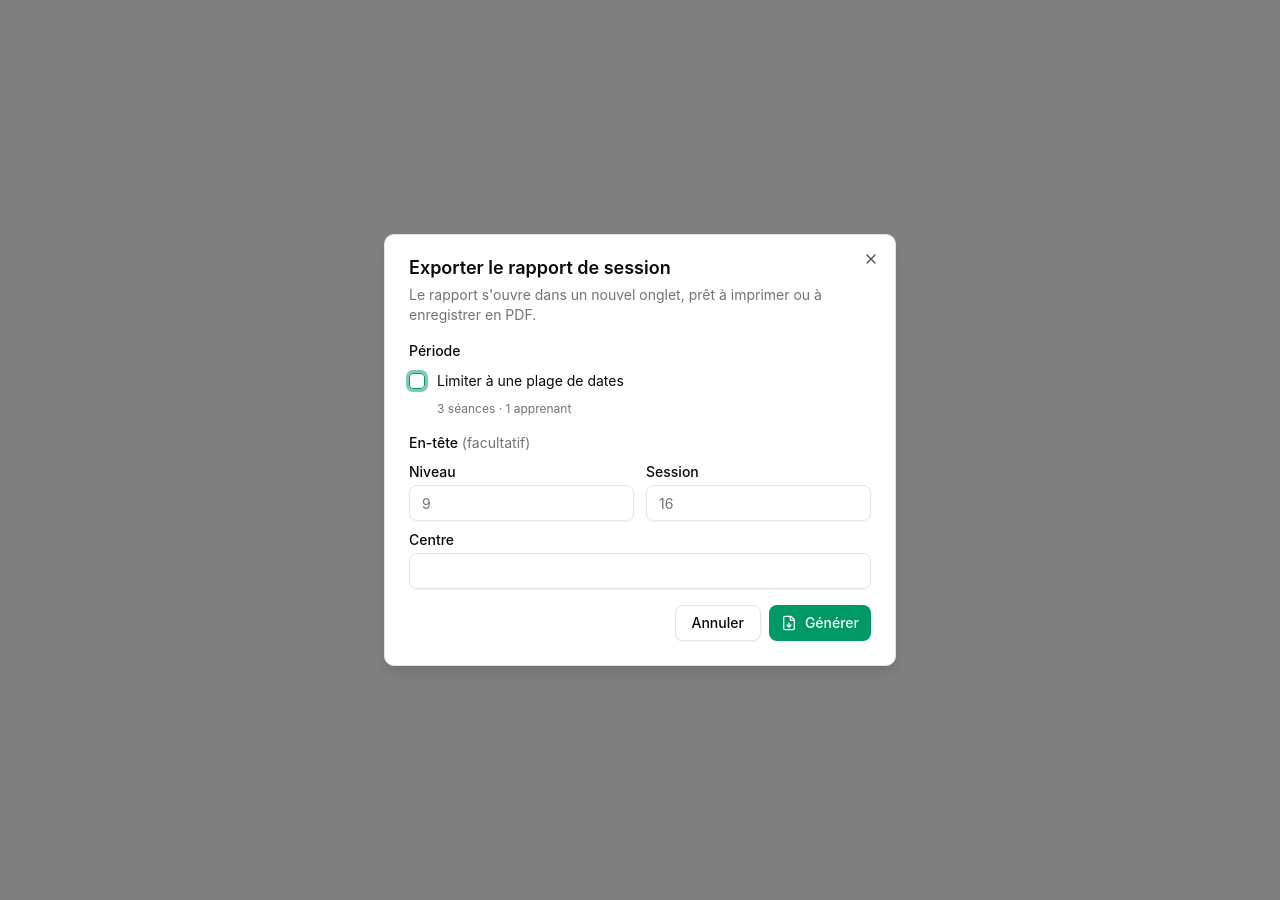
Scenario: ExportRapportDialog › révèle les deux dates quand on limite la période
Click the checkbox named "plage de dates": [417, 381] box [409,373,425,389]
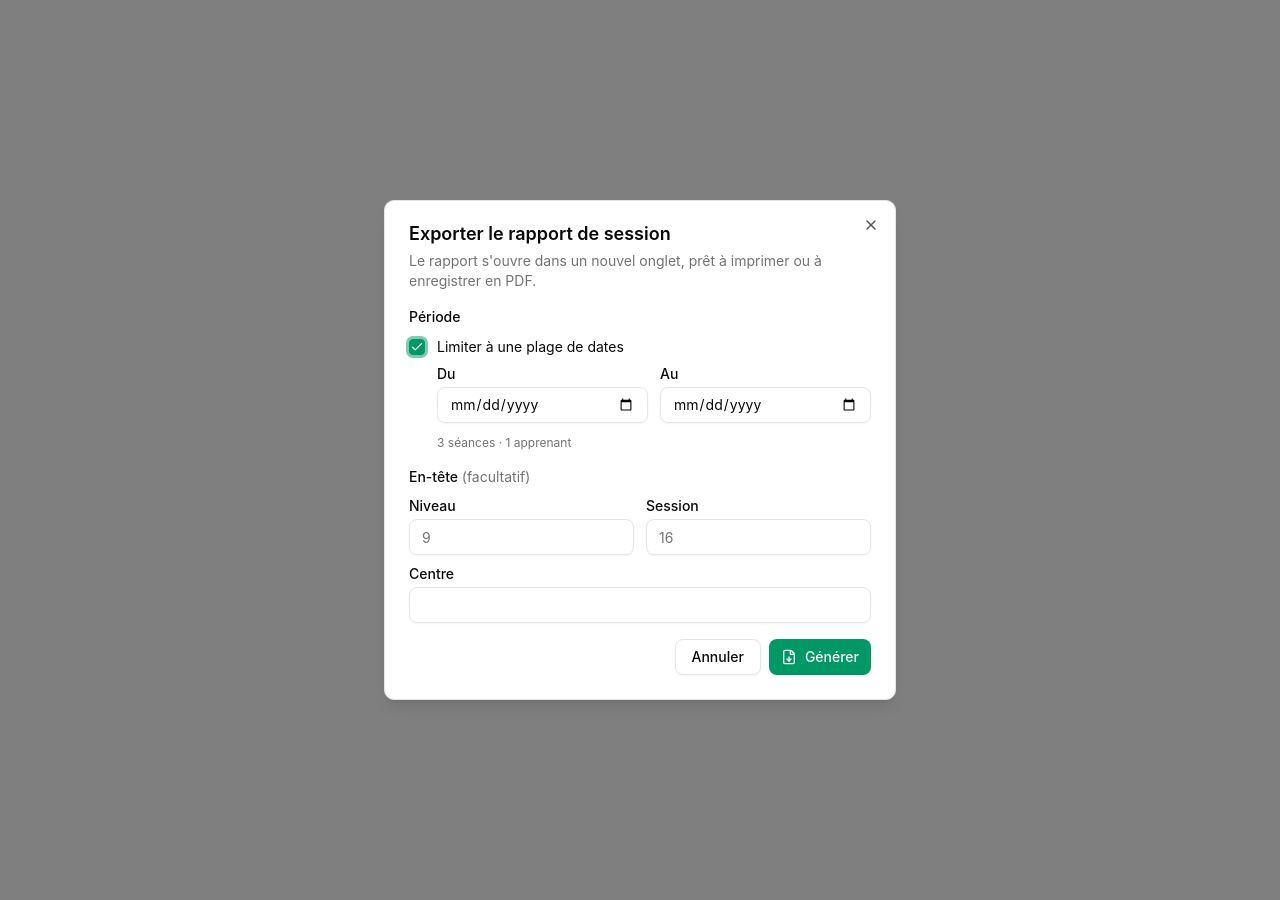
Expected: the date field labelled "Du" is shown, [437,387,648,423]
Expected: the date field labelled "Au" is shown, [660,387,871,423]
